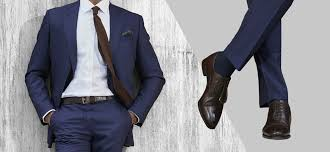F_M_suit jacket: (26, 8, 172, 128)
F_belt: (54, 91, 123, 107)
F_dress pants: (53, 107, 132, 152)
F_tie: (89, 6, 117, 79)
